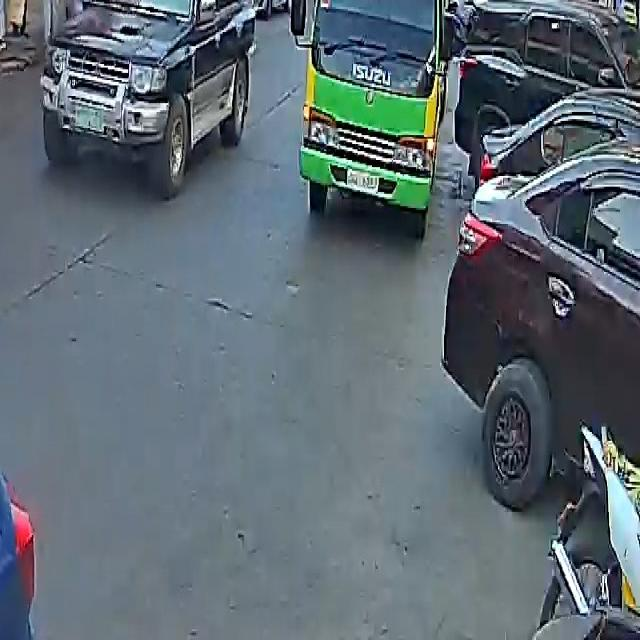car: (444, 78, 640, 542), (39, 0, 261, 192), (451, 0, 640, 185), (0, 131, 60, 640)
